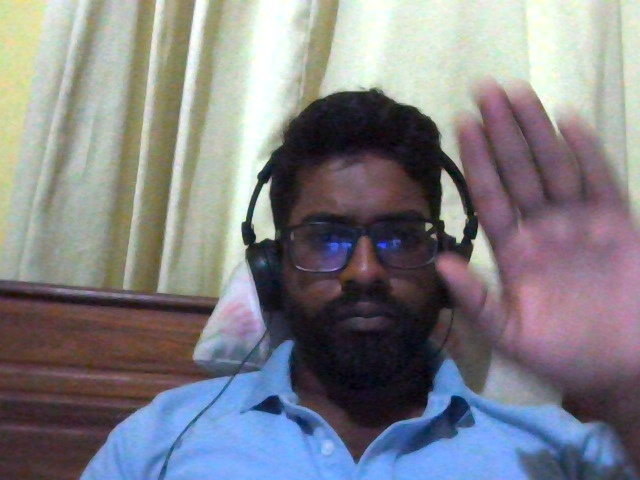Hello: (421, 60, 640, 429)
